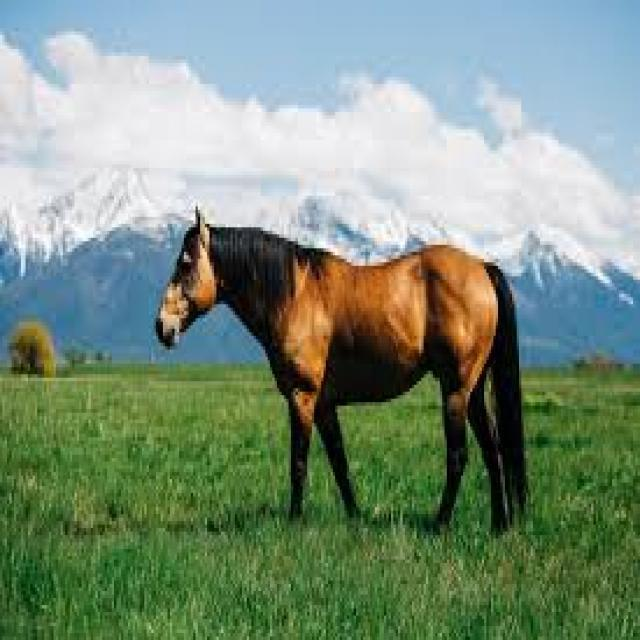horse: (135, 201, 549, 544)
